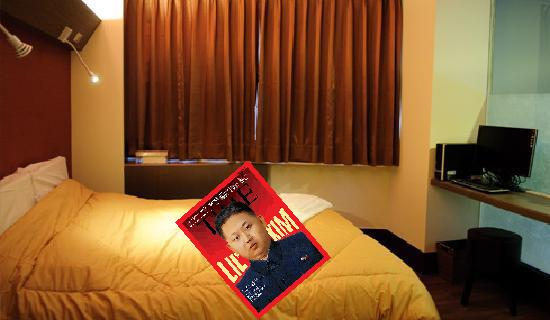times: (173, 159, 329, 319)
